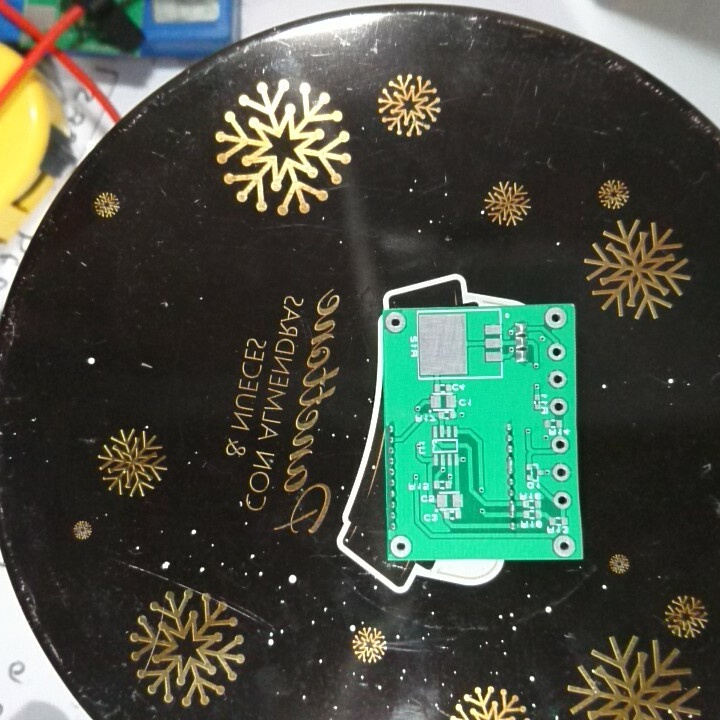F: (382, 309, 408, 335), (388, 534, 415, 557), (542, 305, 568, 328), (552, 532, 576, 556), (546, 368, 569, 389), (550, 462, 573, 482), (548, 397, 570, 417), (549, 433, 569, 455), (551, 490, 573, 510), (547, 341, 568, 361)
P: (505, 454, 518, 475), (506, 497, 519, 517)
